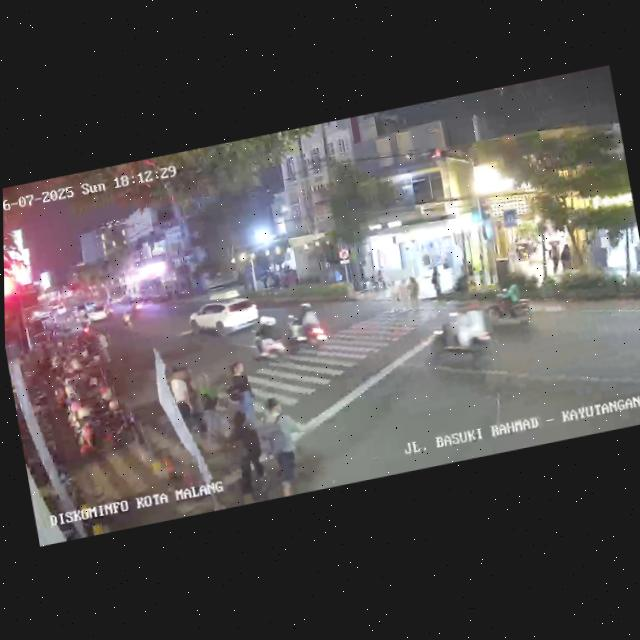car: (185, 290, 262, 344)
motorcycle: (417, 297, 497, 373), (279, 299, 329, 358), (486, 277, 537, 332), (246, 316, 289, 369), (118, 305, 135, 332)
person: (256, 391, 312, 497), (224, 405, 272, 506), (193, 369, 234, 446), (223, 359, 260, 433), (166, 367, 198, 436), (396, 276, 413, 314), (405, 274, 423, 309), (557, 240, 575, 273), (428, 265, 444, 300), (547, 242, 563, 276), (388, 278, 403, 313), (631, 241, 640, 272)
